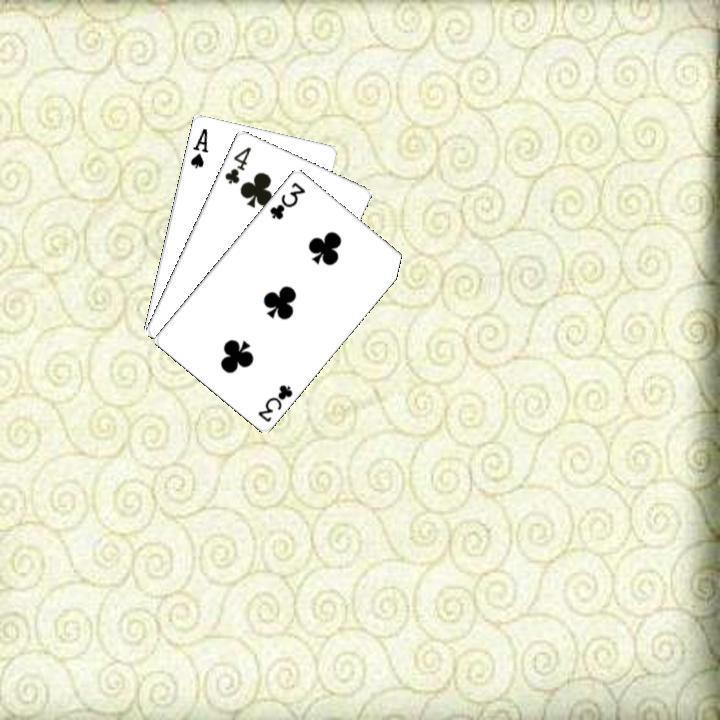3: (265, 177, 307, 221), (253, 380, 295, 424)
4: (220, 142, 253, 186)
A: (186, 123, 210, 170)
